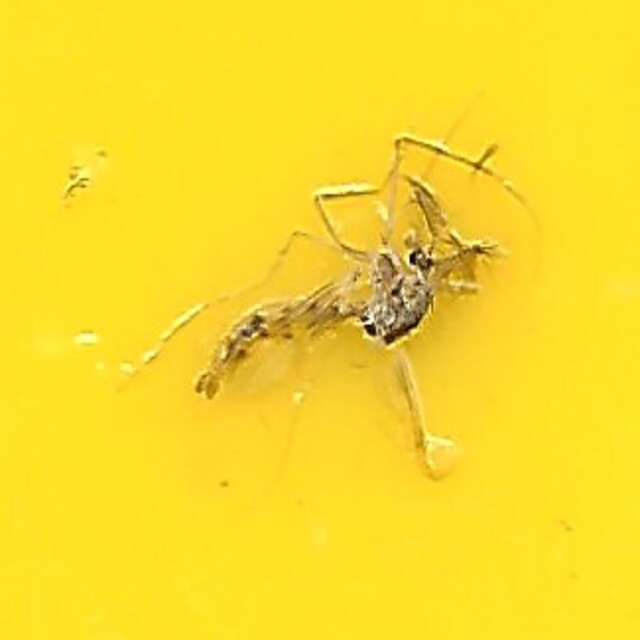Nematocera: (197, 229, 443, 411)
